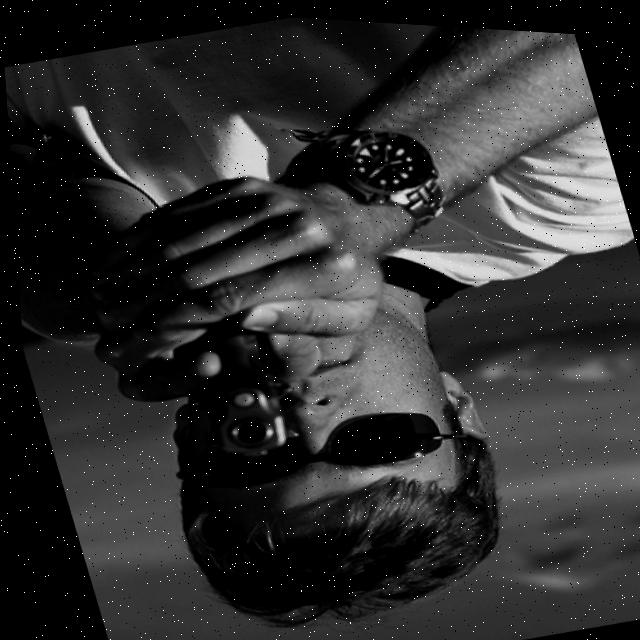pistol: (161, 299, 303, 467)
